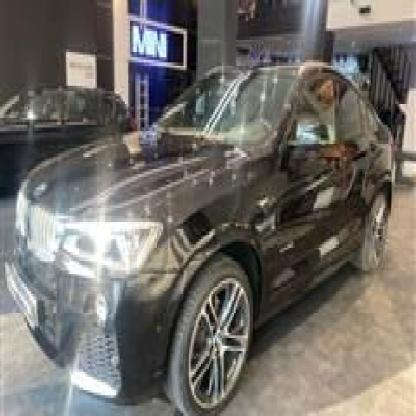Car: (0, 55, 406, 403), (0, 86, 146, 200)
